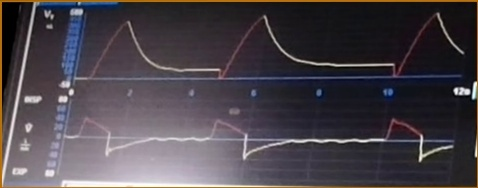Flow: (70, 113, 452, 176)
Leakage Volume: (87, 11, 465, 86)
